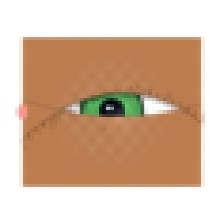hemorrhage_spot: (60, 87, 141, 152)
